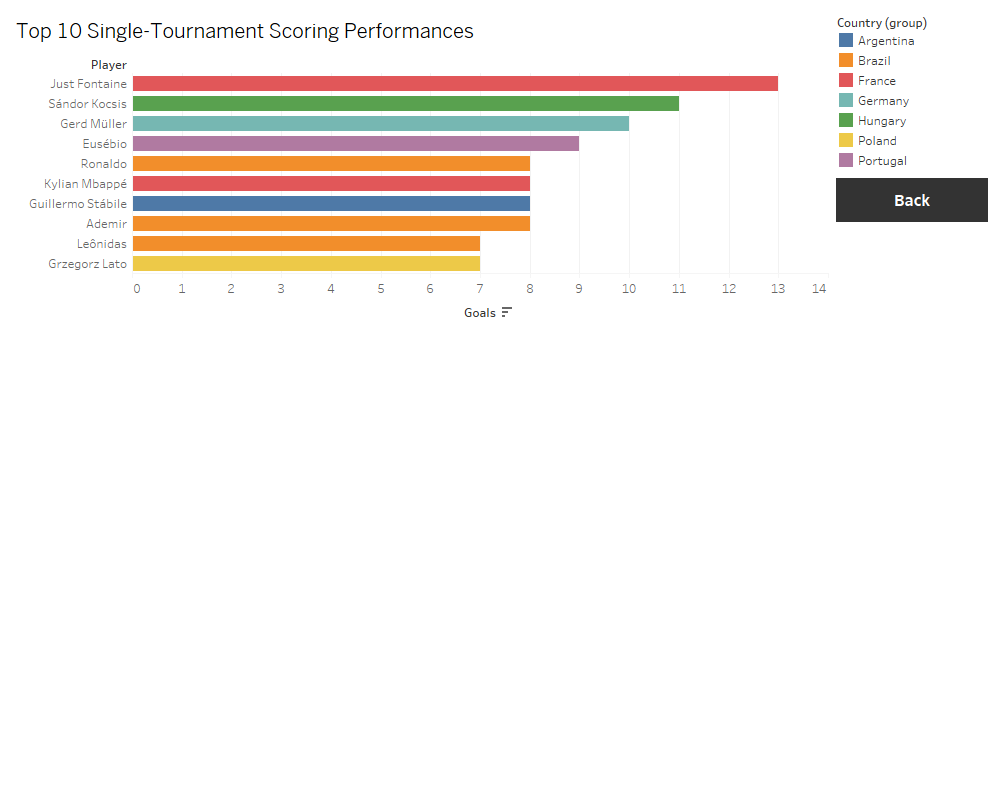

The dashboard page shown, as its layout file describes it:
{"tool":"tableau","page":{"name":"World Cup: Top Individual Performances","canvas":[1000,800],"ordinal":1},"visuals":[{"type":"worksheet","title":"Top 10 Single-Tournament Scoring Performances","mark":"Automatic","rows":["player"],"cols":["goals (wc!top!scorers)"],"box":[8,8,824,784]},{"type":"legend","title":"Top 10 Single-Tournament Scoring Performances","param":"[federated.1i30lis0z26grw1e7vv5t0id9rb4].[Country (group)]","box":[832,8,160,166]},{"type":"dashboard-object","box":[832,174,160,52]}]}

Visuals, with their boxes in screenshot pixels (x1, y1, x2, y2), scaled from the page's 1000x800 canvas onto the 1000x800 screenshot:
"Top 10 Single-Tournament Scoring Performances" worksheet: bbox=(8, 8, 832, 792)
"Top 10 Single-Tournament Scoring Performances" legend: bbox=(832, 8, 992, 174)
dashboard-object: bbox=(832, 174, 992, 226)
